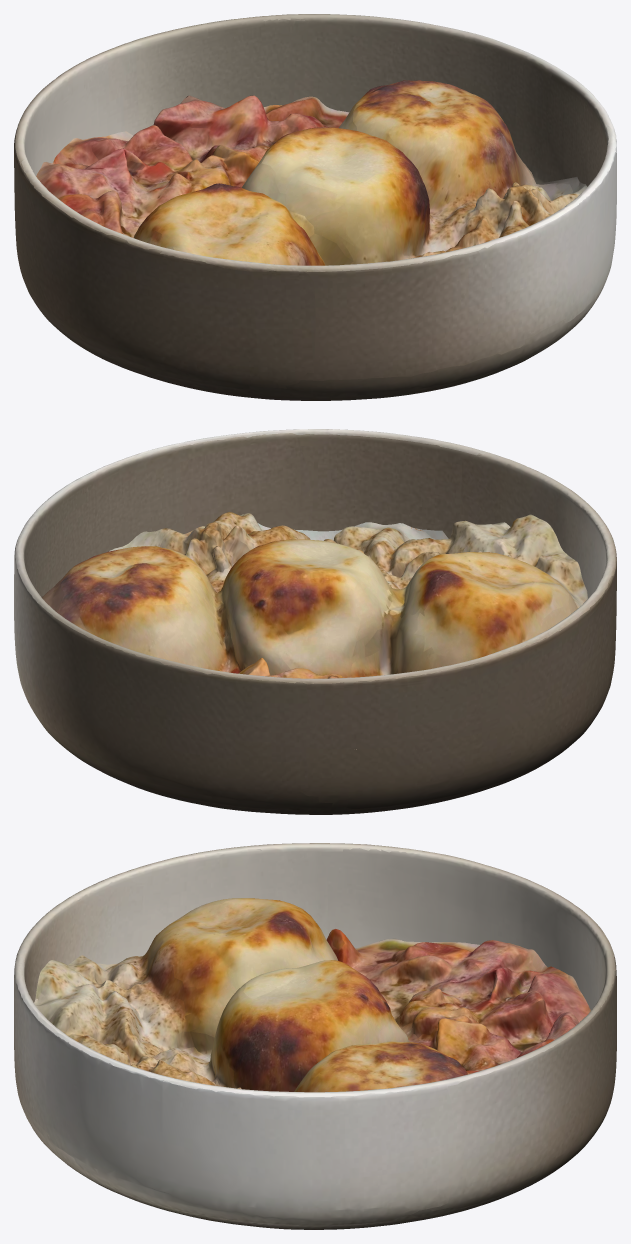
The model's file is set2.sulugani.glb.
The picture shows the model from 3 angles, top to bottom: view 1: azimuth 30°, elevation 25°; view 2: azimuth 150°, elevation 25°; view 3: azimuth 270°, elevation 25°; orthographic projection.
Parts seen in each view (by area): view 1: /Root/Scenes/Scene/Object_37/Object_41/Object_42/Submesh_0, /Root/Scenes/Scene/Object_37/Object_38/Submesh_0; view 2: /Root/Scenes/Scene/Object_37/Object_41/Object_42/Submesh_0, /Root/Scenes/Scene/Object_37/Object_38/Submesh_0; view 3: /Root/Scenes/Scene/Object_37/Object_41/Object_42/Submesh_0, /Root/Scenes/Scene/Object_37/Object_38/Submesh_0.
Boxes of the visible parts, <box> form: /Root/Scenes/Scene/Object_37/Object_41/Object_42/Submesh_0: <box>14,14,616,400</box>; /Root/Scenes/Scene/Object_37/Object_38/Submesh_0: <box>36,80,587,265</box>; /Root/Scenes/Scene/Object_37/Object_41/Object_42/Submesh_0: <box>14,429,616,814</box>; /Root/Scenes/Scene/Object_37/Object_38/Submesh_0: <box>41,511,587,749</box>; /Root/Scenes/Scene/Object_37/Object_41/Object_42/Submesh_0: <box>14,843,616,1229</box>; /Root/Scenes/Scene/Object_37/Object_38/Submesh_0: <box>34,898,590,1092</box>.
Bounding box in the file's own units: 0.1953 × 0.0554 × 0.1952.
Materials: 2 (2 with a texture image).
